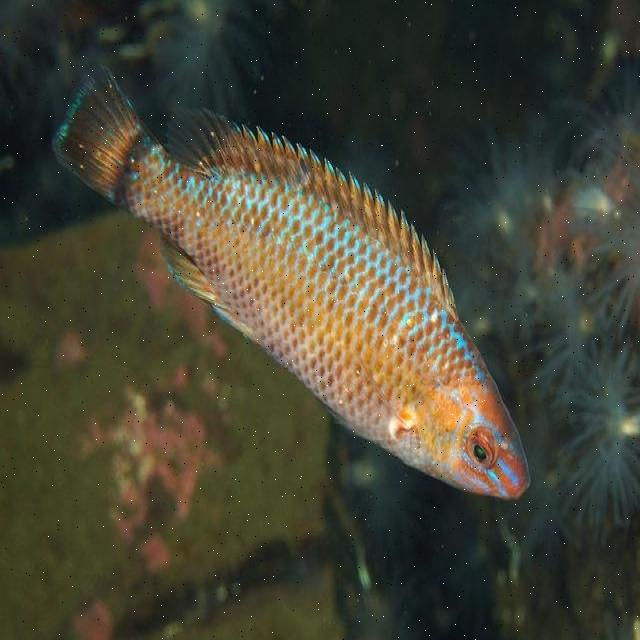fish: (53, 64, 534, 499)
